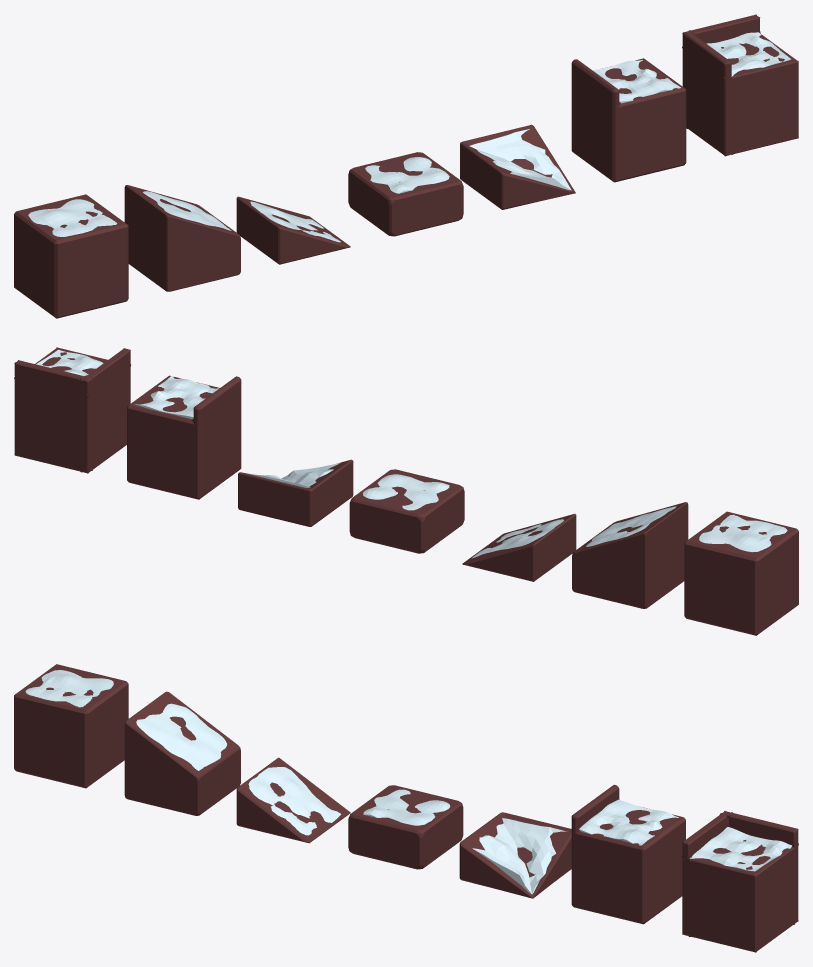
The model's file is world_blocks.glb.
The picture shows the model from 3 angles, top to bottom: view 1: azimuth 30°, elevation 25°; view 2: azimuth 150°, elevation 25°; view 3: azimuth 330°, elevation 25°; orthographic projection.
Visible parts, largest first — view 1: BlockWallCorner, BlockWall, Block, RampTop, BlockShort, RampLowerCorner, RampBottom; view 2: BlockWallCorner, BlockWall, Block, RampTop, BlockShort, RampLowerCorner, RampBottom; view 3: BlockWallCorner, BlockWall, Block, RampTop, BlockShort, RampLowerCorner, RampBottom.
Part boxes in pixels (x1,y1,x2,y2): BlockWallCorner: [682, 14, 798, 156]; BlockWall: [571, 58, 686, 182]; Block: [14, 194, 128, 318]; RampTop: [124, 185, 240, 291]; BlockShort: [348, 152, 463, 236]; RampLowerCorner: [460, 124, 575, 209]; RampBottom: [236, 196, 350, 264]; BlockWallCorner: [14, 347, 130, 473]; BlockWall: [127, 375, 241, 499]; Block: [684, 511, 798, 635]; RampTop: [572, 502, 688, 608]; BlockShort: [349, 469, 464, 553]; RampLowerCorner: [238, 459, 353, 526]; RampBottom: [462, 513, 576, 581]; BlockWallCorner: [681, 811, 798, 952]; BlockWall: [571, 784, 685, 924]; Block: [14, 664, 128, 788]; RampTop: [124, 691, 240, 815]; BlockShort: [348, 785, 463, 869]; RampLowerCorner: [459, 812, 571, 898]; RampBottom: [236, 757, 350, 843].
Size of what is drawn, in the model's own units: 20.01 by 2.41 by 2.01.
